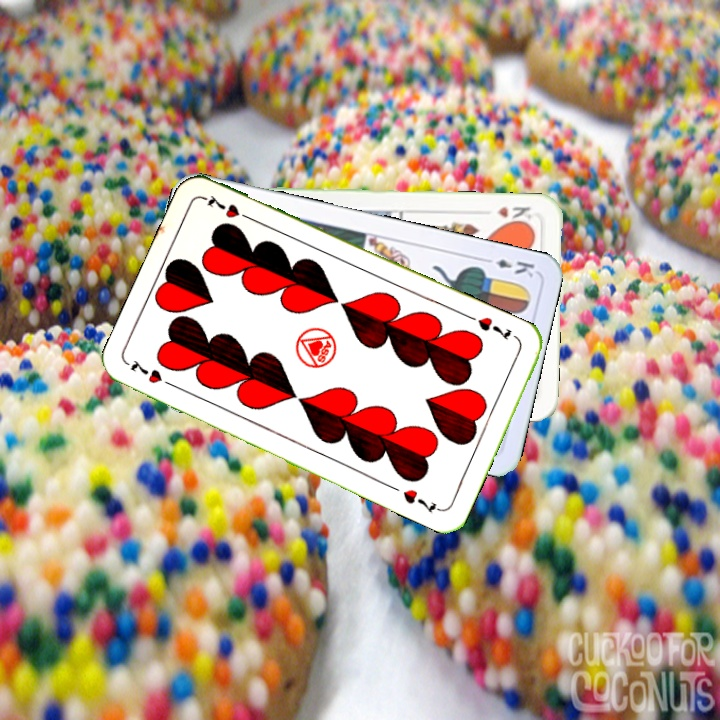EK: (478, 253, 537, 280)
H7: (126, 355, 180, 391), (473, 313, 514, 343)
HK: (493, 202, 535, 227)
